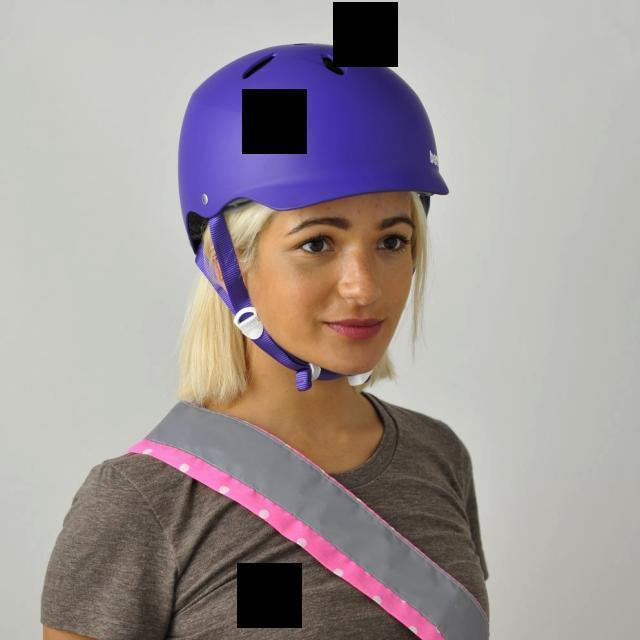helmet: (174, 42, 448, 390)
